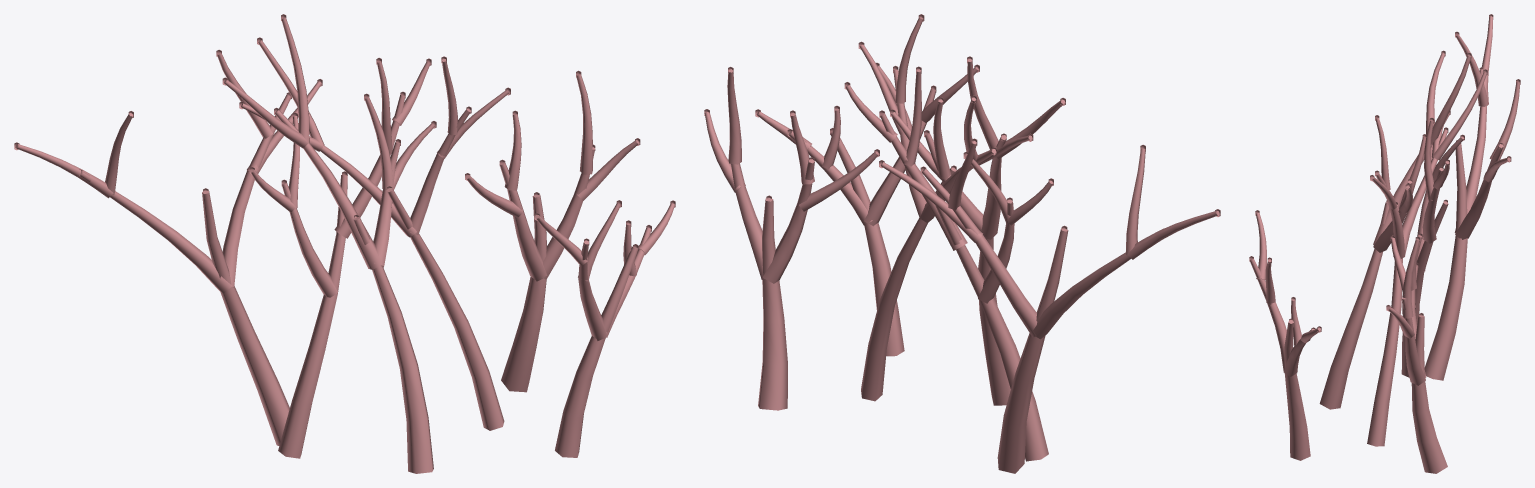
Rendered from coral_pink.glb.
The picture shows the model from 3 angles, left to right: view 1: azimuth 30°, elevation 25°; view 2: azimuth 150°, elevation 25°; view 3: azimuth 270°, elevation 25°; orthographic projection. The views are drawn at different scales.
Visible parts, largest first — view 1: coral_pink; view 2: coral_pink; view 3: coral_pink.
Boxes of the visible parts, x1,y1,x2,y2 form: coral_pink: (14,14,675,473); coral_pink: (704,14,1220,473); coral_pink: (1249,14,1520,473).
Bounding box in the file's own units: 2.15 × 1.5 × 1.1.
